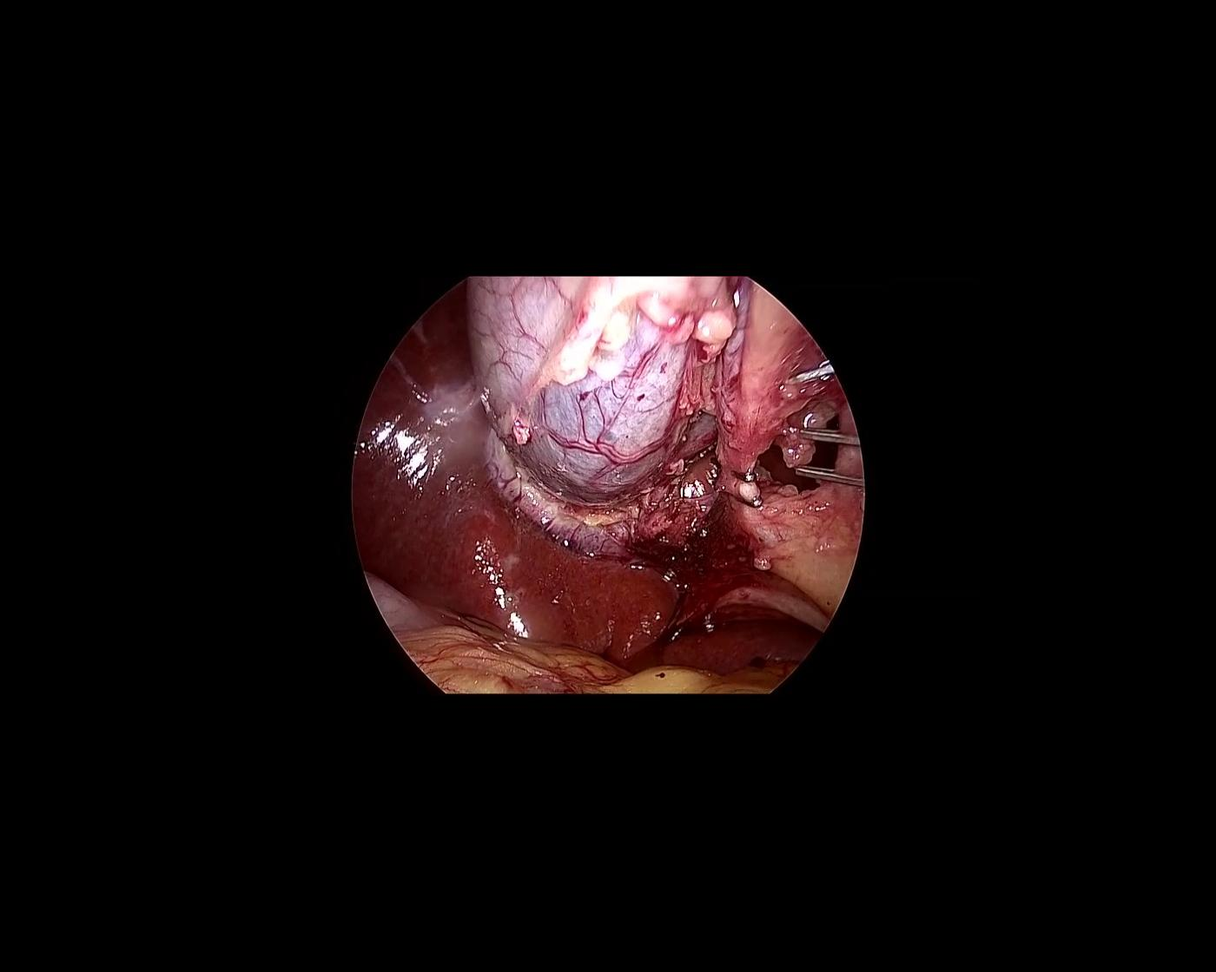Gallbladder: (464, 278, 811, 555)
Liver: (260, 284, 693, 756)
